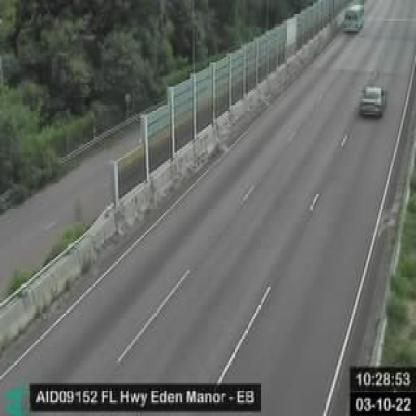Car: (359, 87, 385, 116)
Minibus: (343, 4, 365, 31)
